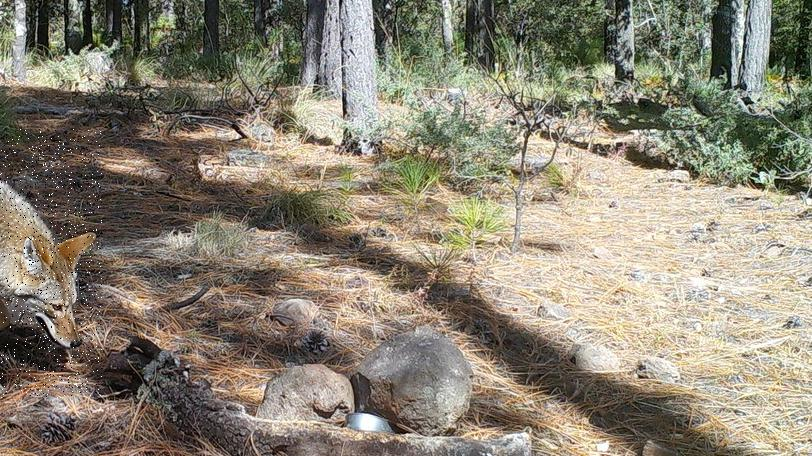Coyote: (0, 129, 102, 398)
